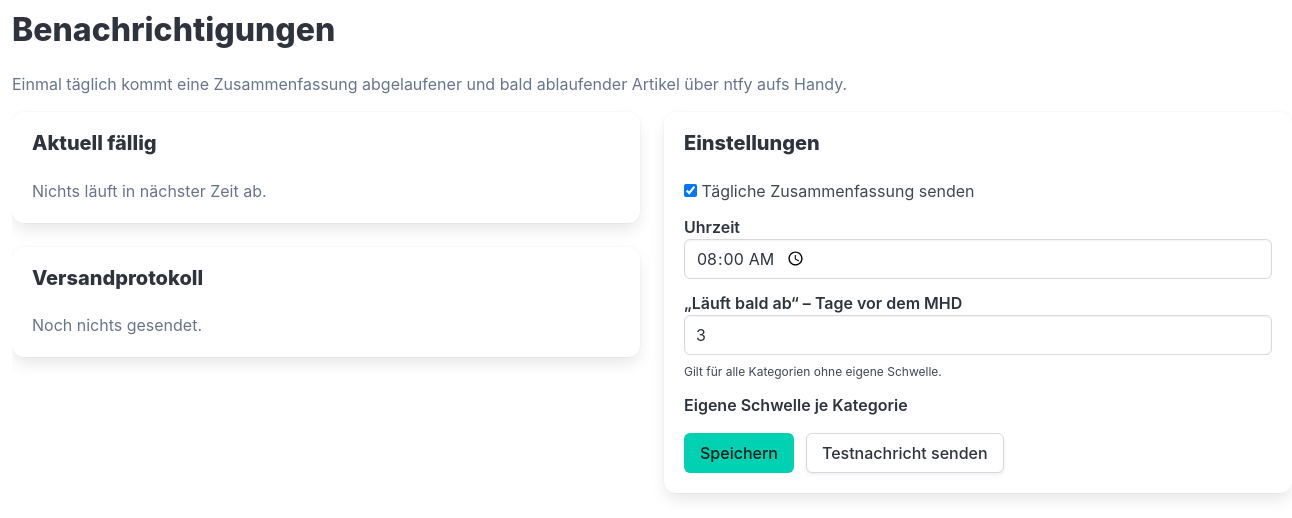
it: NotificationsPage › sends a test message
Click the button "Testnachricht senden" at [905, 452], box [806,432,1004,472]
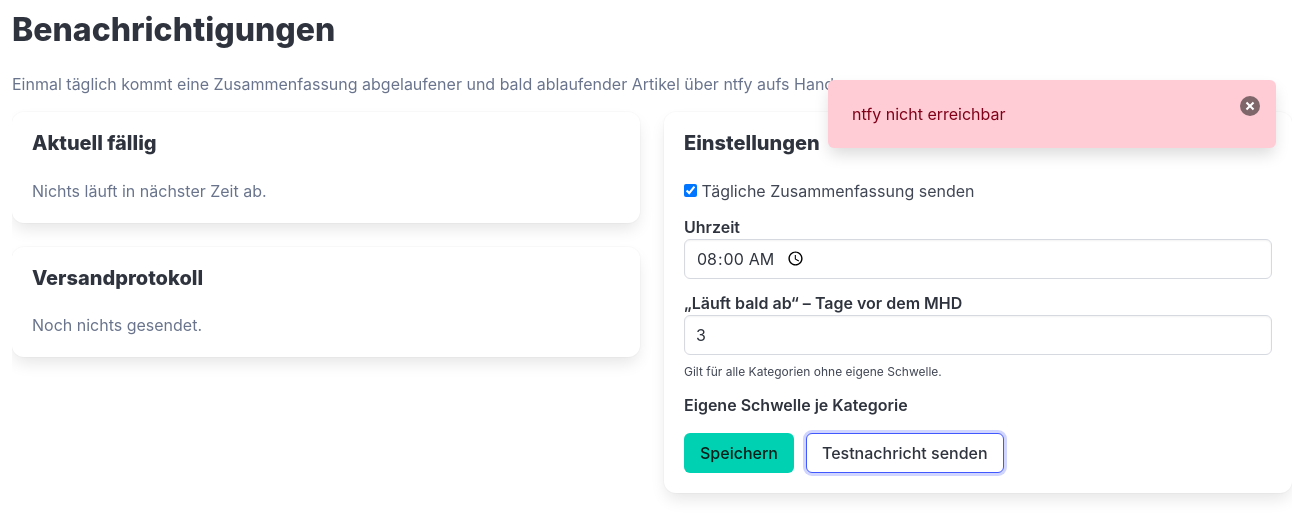
Now the text "ntfy nicht erreichbar" is shown, box [828,80,1276,148]
Click the button "Testnachricht senden" at [905, 452], box [806,432,1004,472]
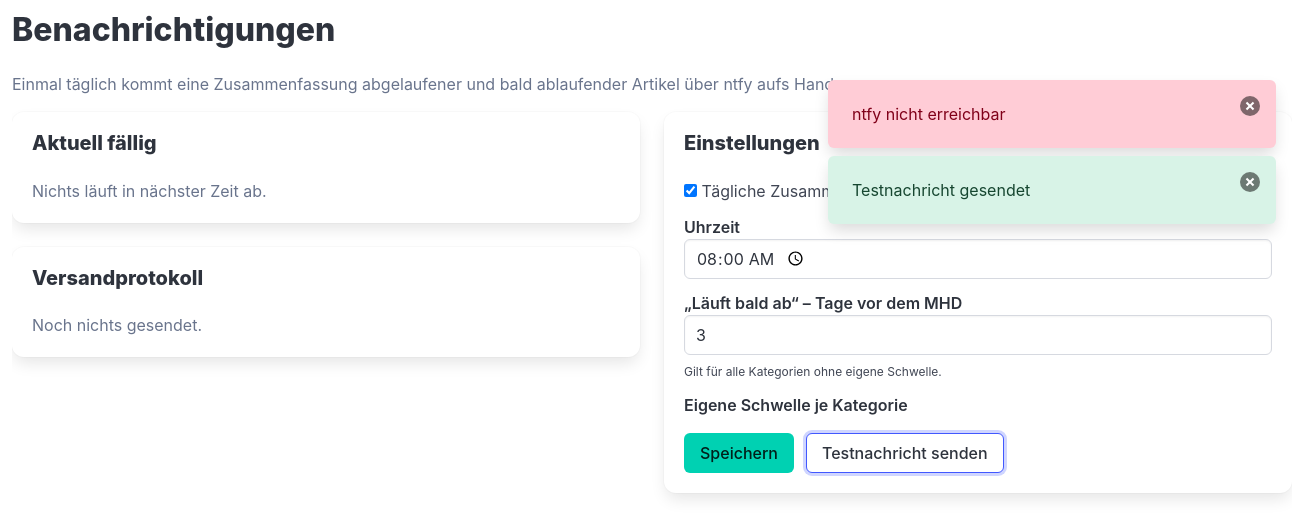
Now the text "Testnachricht gesendet" is shown, box [828,156,1276,224]
